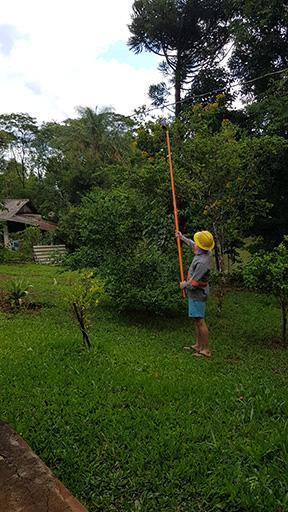helmet: (193, 228, 215, 253)
